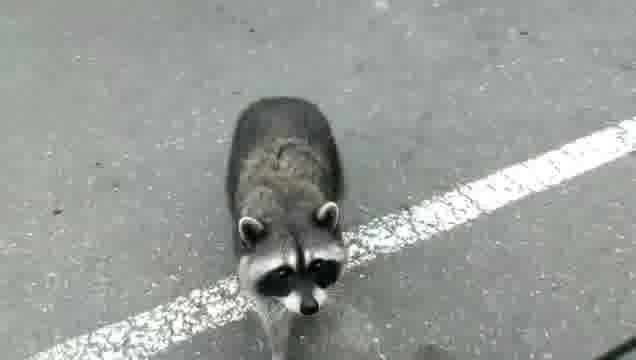raccoon: (223, 94, 348, 360)
